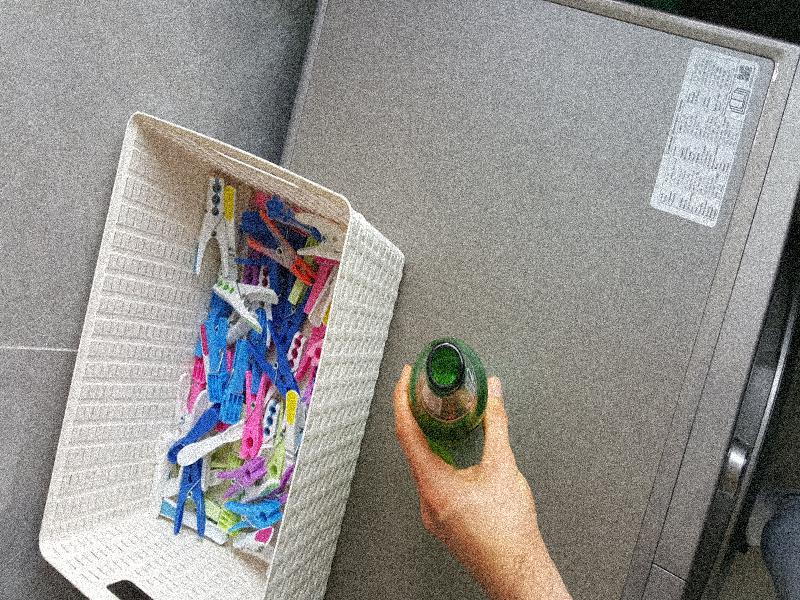Beer: (408, 338, 488, 449)
